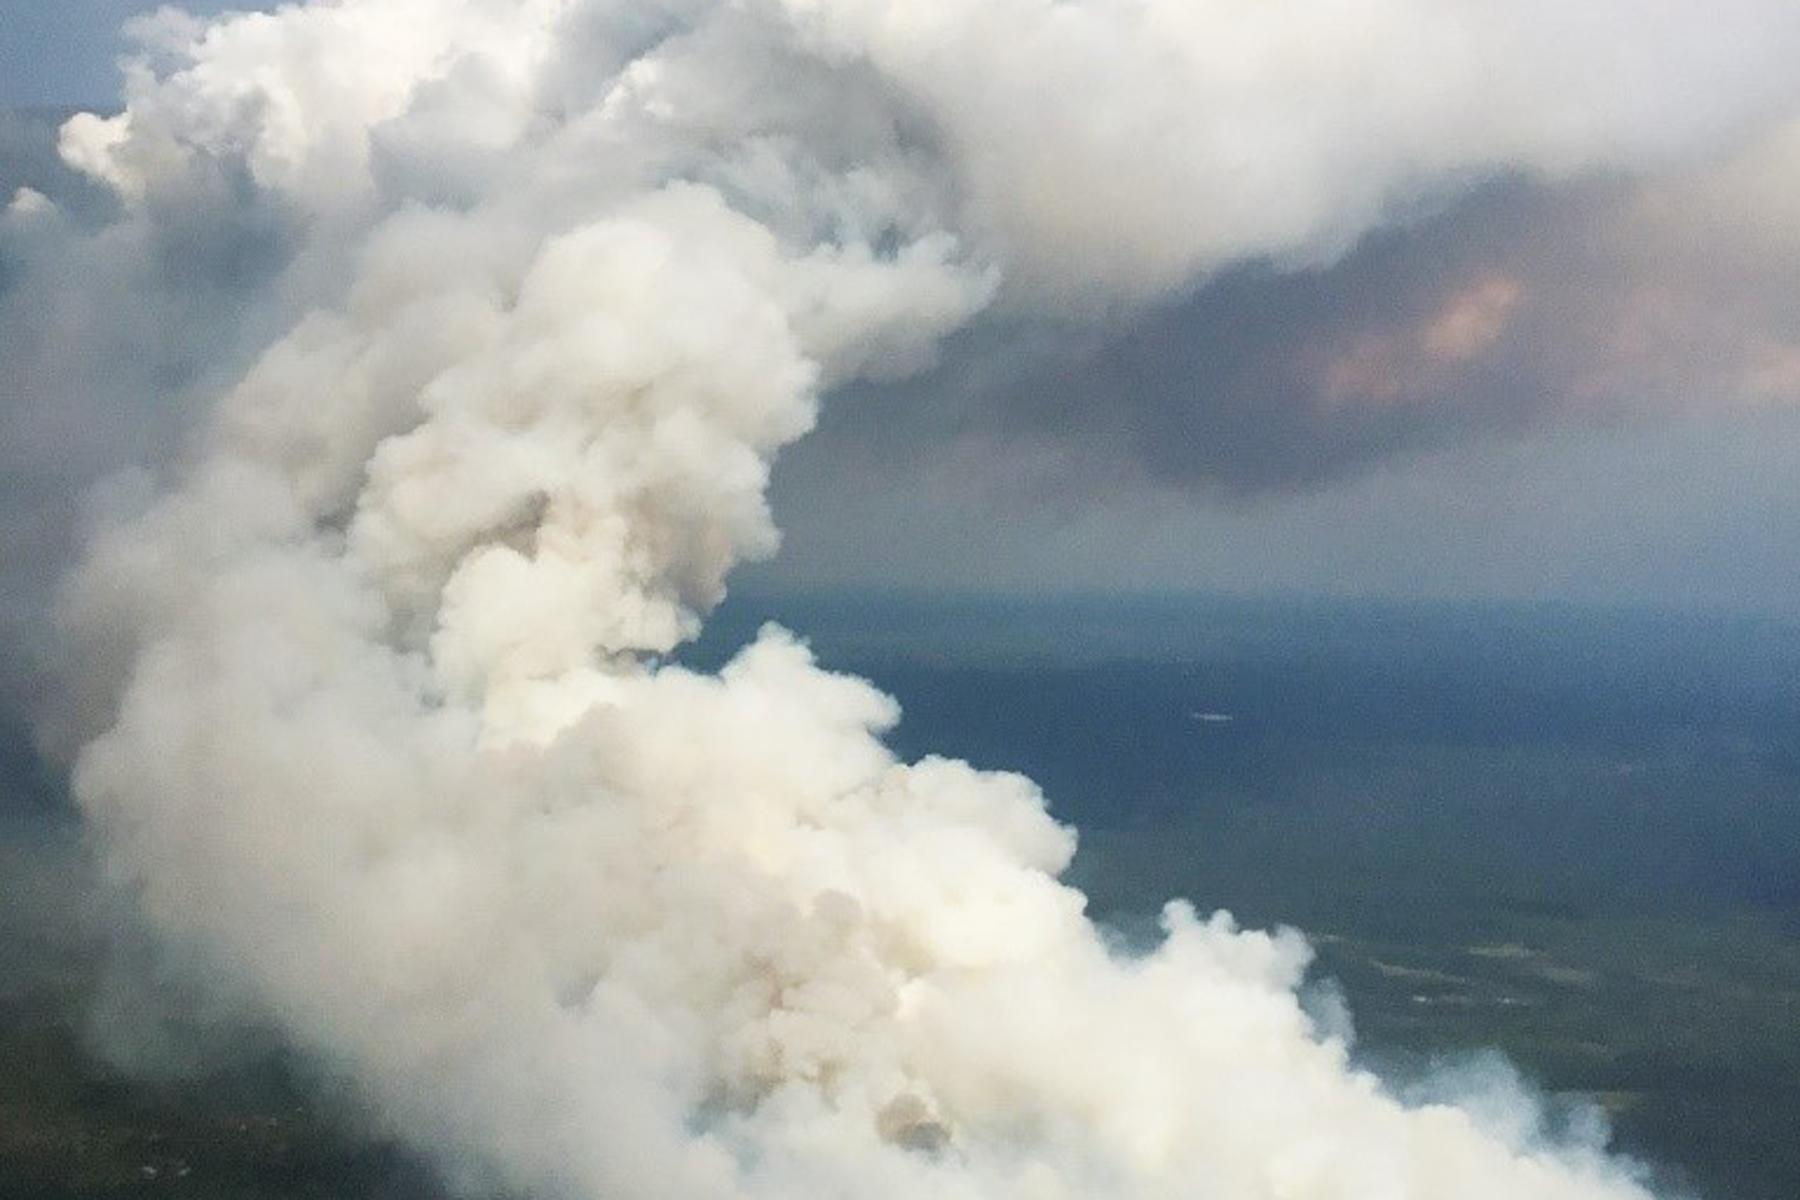smoke: (19, 11, 1649, 1195)
